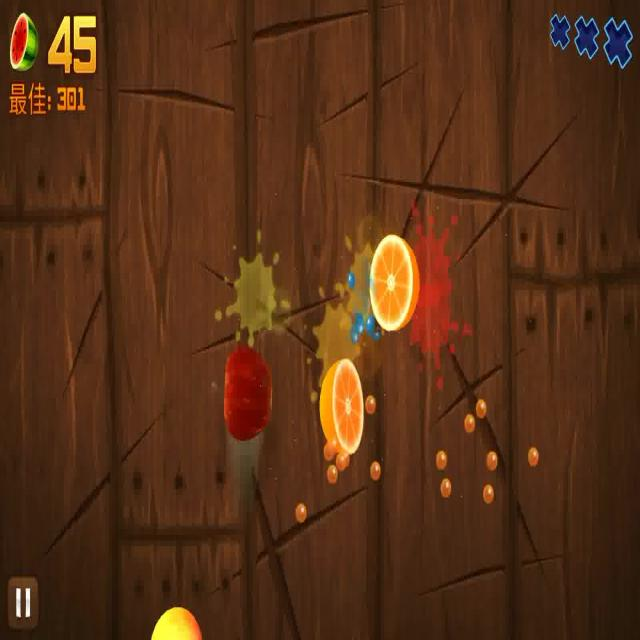fruit: (220, 341, 272, 443), (368, 238, 416, 331), (320, 359, 364, 455), (150, 603, 203, 640)
